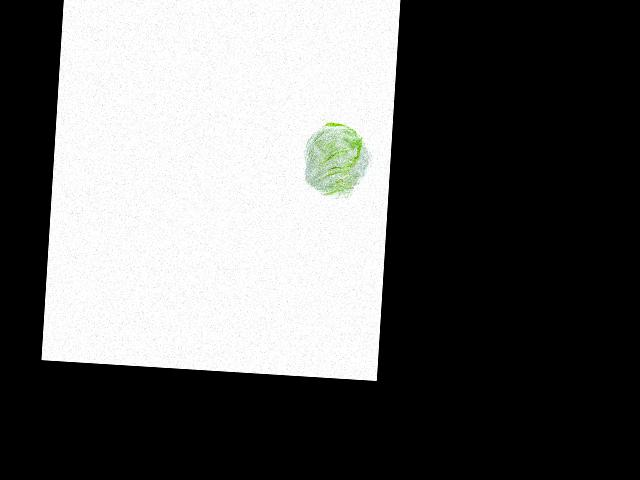lettuce: (305, 122, 372, 200)
